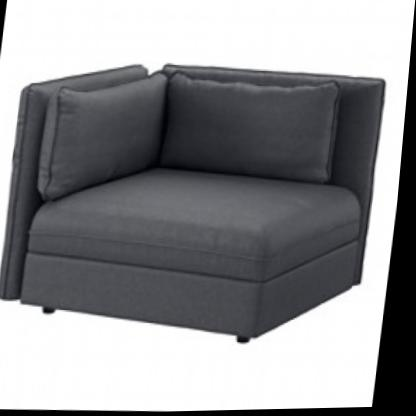Sofa: (0, 30, 396, 364)
